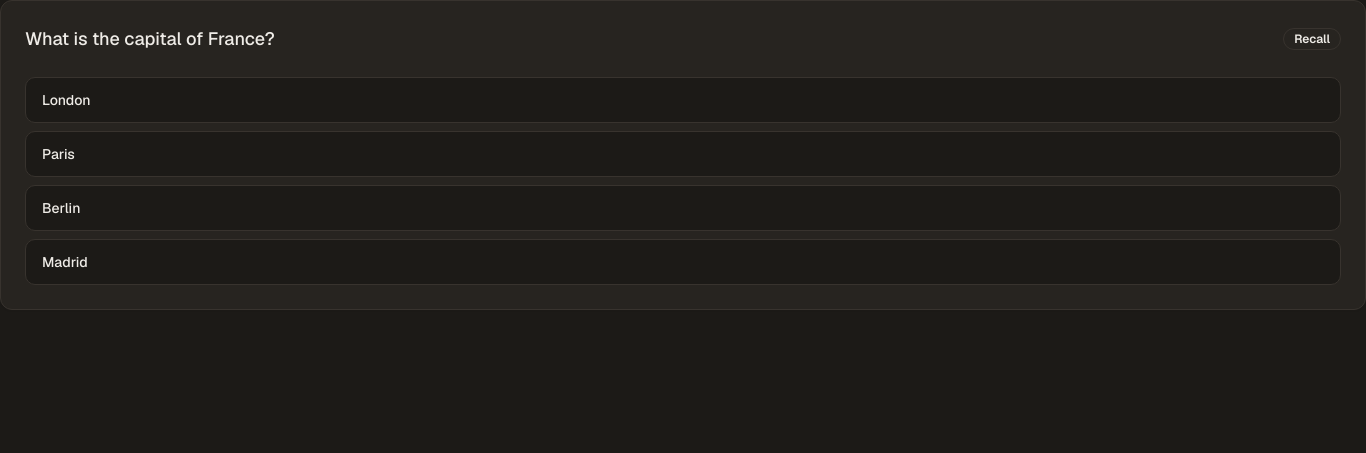
it: QuizCard › shows correct feedback for multiple-choice after selecting
Click the button "Paris".
click(58, 154)  # box [25, 131, 1341, 177]
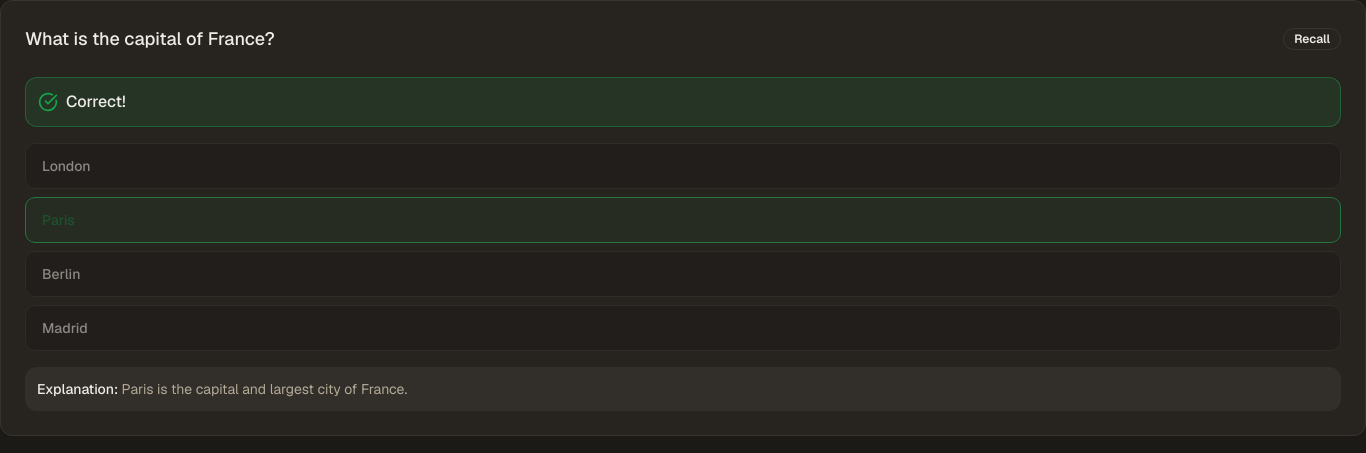
Check: the text "Correct!" is shown, box [66, 90, 126, 114]
Check: the text "Paris is the capital and largest city of France." is shown, box [122, 380, 407, 398]
